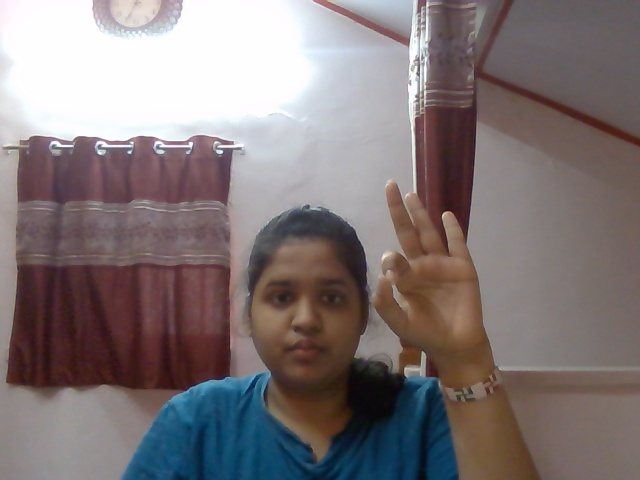f: (346, 181, 500, 357)
